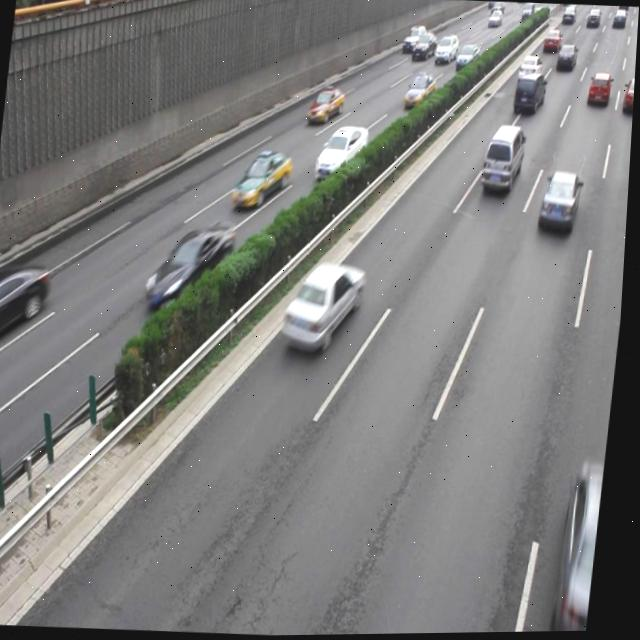car: (145, 220, 239, 314), (282, 259, 369, 358), (561, 461, 611, 626), (0, 258, 54, 347), (231, 147, 295, 212), (314, 124, 372, 186), (539, 171, 583, 235), (307, 85, 346, 128)
truck: (480, 124, 528, 197)
